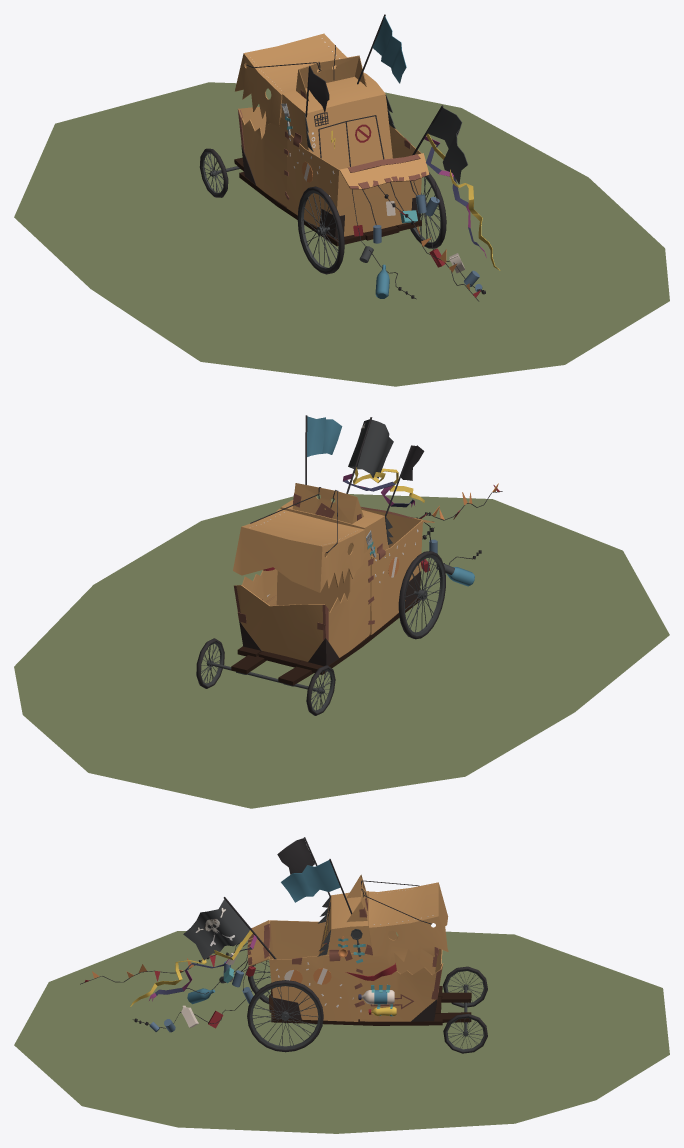
Rendered from cardboard_venicle.glb.
The picture shows the model from 3 angles, top to bottom: view 1: azimuth 30°, elevation 25°; view 2: azimuth 150°, elevation 25°; view 3: azimuth 270°, elevation 25°; orthographic projection. The views are drawn at different scales.
Visible parts, largest first — view 1: polySurface1781; view 2: polySurface1781; view 3: polySurface1781.
Part boxes in pixels (left/top/right/bottom): polySurface1781: left=14, top=14, right=669, bottom=386; polySurface1781: left=14, top=415, right=669, bottom=808; polySurface1781: left=14, top=837, right=669, bottom=1133.
Bounding box in the file's own units: 23.51 × 9.98 × 31.6.
Materials: 20 (1 with a texture image).
